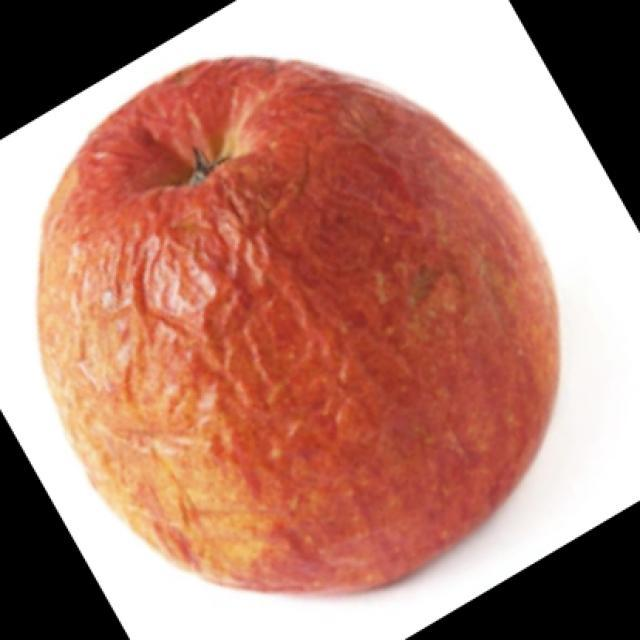Rotten: (36, 53, 556, 600)
